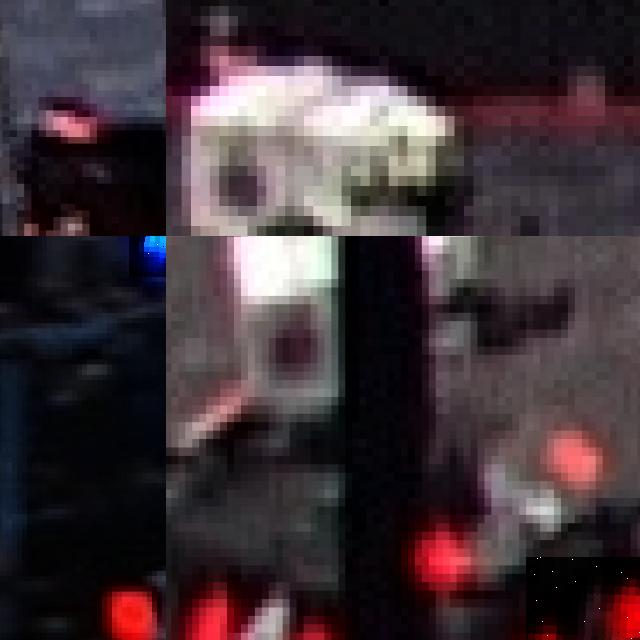R2: (84, 566, 166, 640)
R4: (185, 574, 338, 640), (526, 557, 640, 640)
